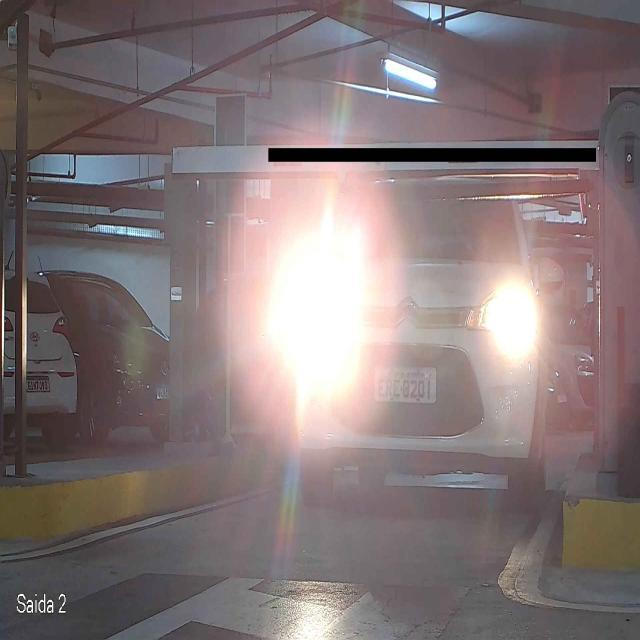old_plate: (372, 365, 438, 405)
